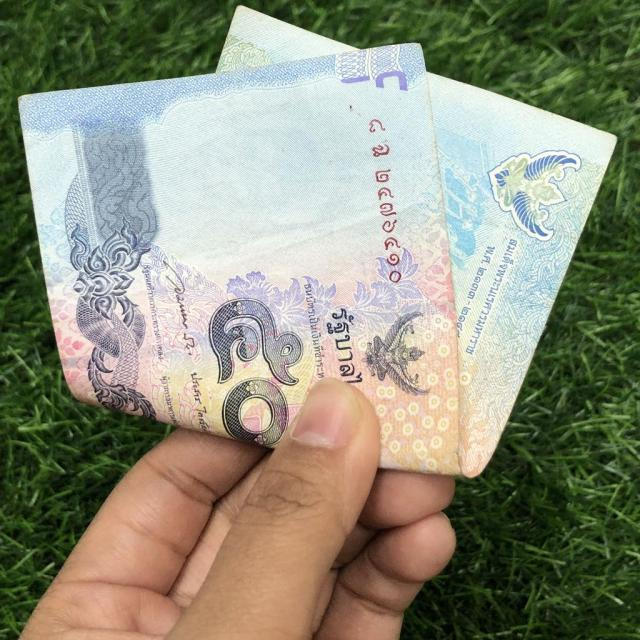THAI50: (20, 8, 614, 477)
